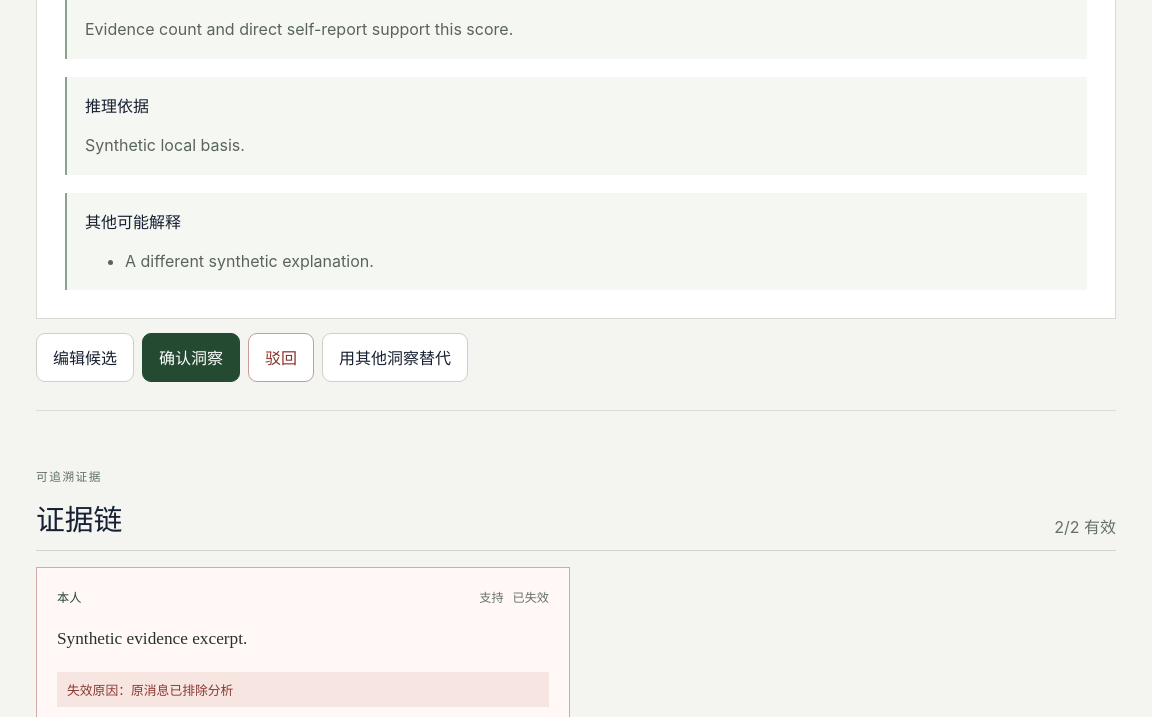
it: InsightDetailPage › allows low-confidence confirmation and explains a 409 without overwriting
(page scrolled)
Click the button "确认洞察": (191,357) [142,333,240,382]
(page scrolled)
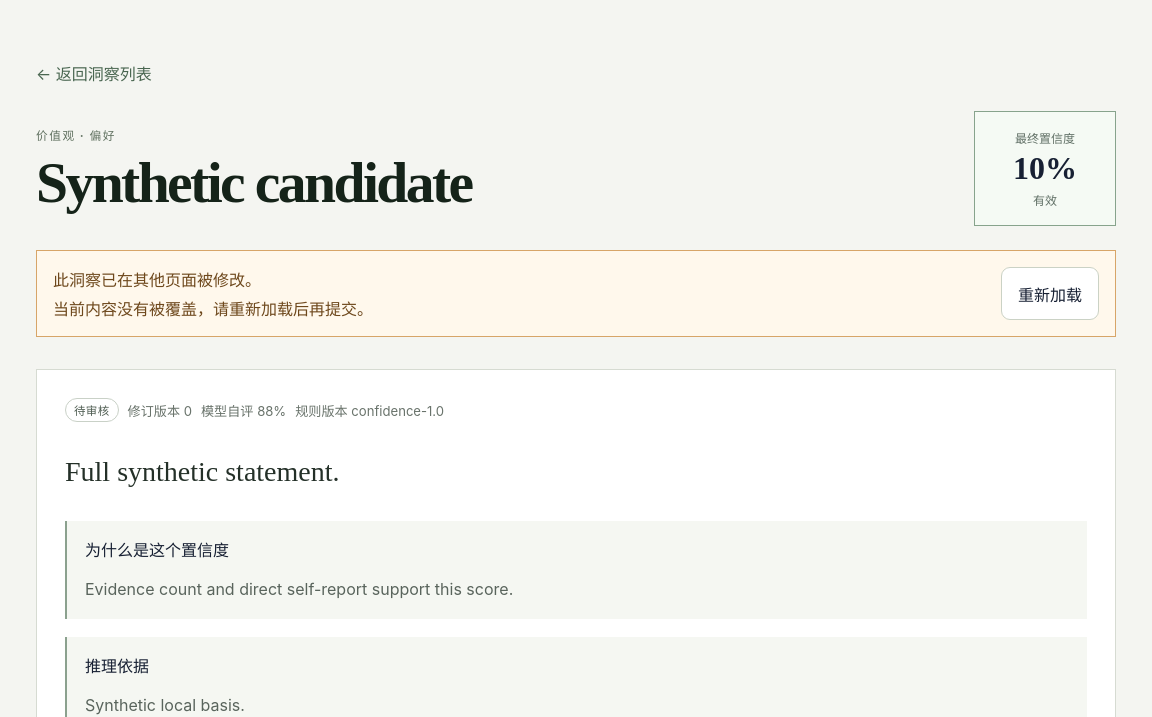
expect the message shows "已在其他页面被修改": met, box [53,270,261,290]
